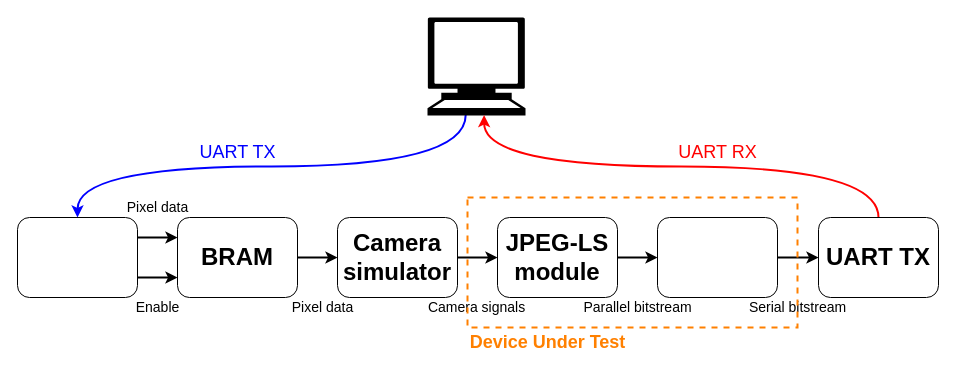
This 956x374 diagram has some shape labels left out. The centre of each missing label's shape, as x and y in pixels:
"Output buffer" goes at (x=717, y=257).
"PS" goes at (x=77, y=257).
